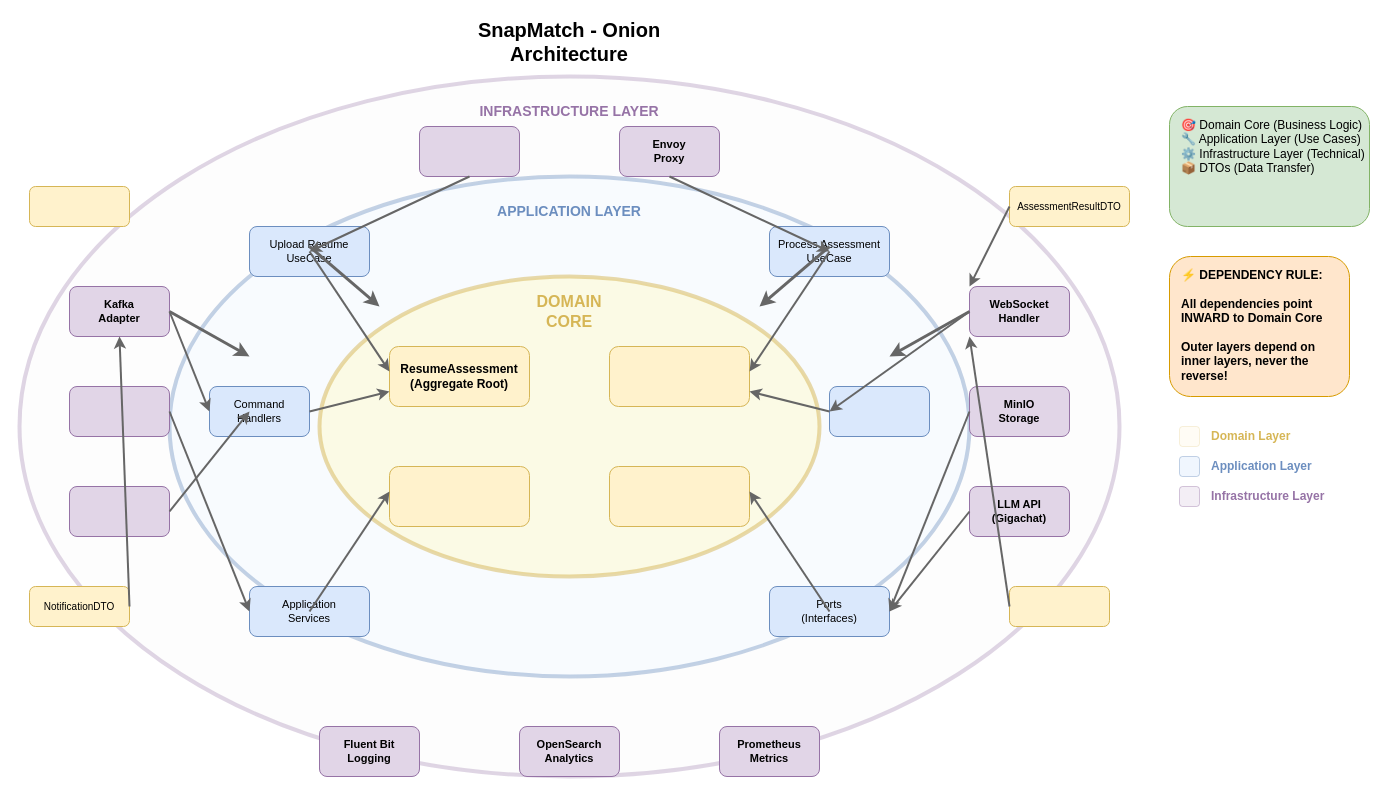
The diagram is 1387 pixels wide and 795 high, and some of its shapes have lost their labels. The centre of each missing label's shape, as x and y in pixels:
AssessmentStatus (Value Object): the point at 459,496
Domain Events: the point at 679,496
Event Handlers: the point at 879,411
Keycloak Auth: the point at 119,511
Ktor Framework: the point at 469,151
MatchingResult (Value Object): the point at 679,376
PostgreSQL Repository: the point at 119,411
UploadResumeDTO: the point at 79,206
WebSocketDTO: the point at 1059,606
